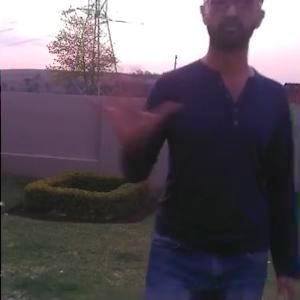follow_hand: (84, 55, 179, 143)
